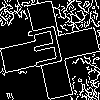E: (25, 25, 68, 77)
